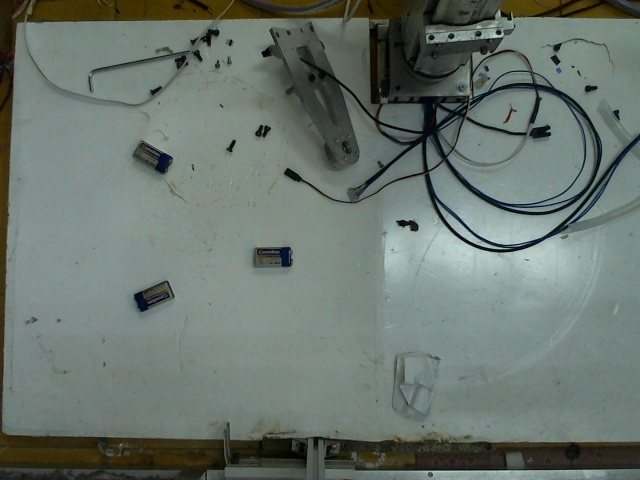battery: (132, 138, 174, 175), (131, 277, 174, 310), (251, 242, 289, 267)
